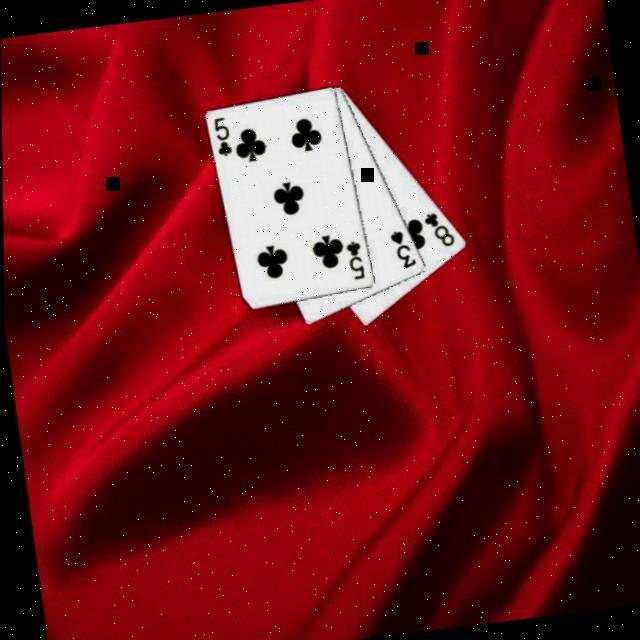3S: (384, 224, 416, 270)
5C: (207, 112, 233, 158), (339, 236, 365, 281)
8C: (417, 204, 455, 250)
